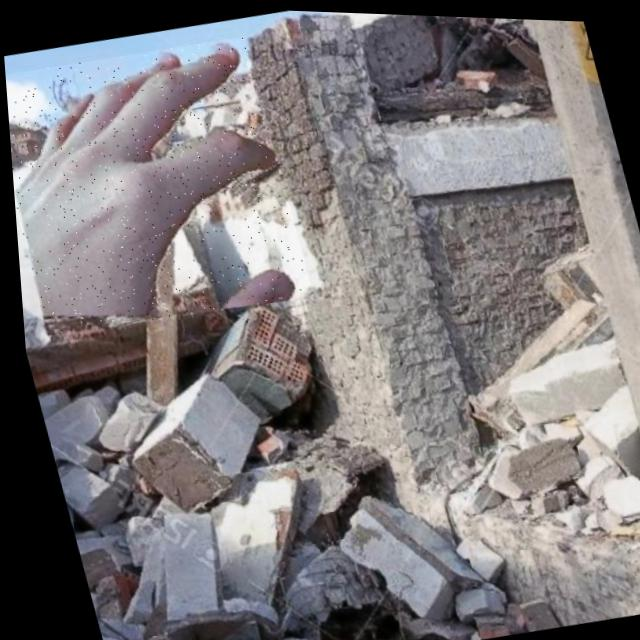Person in Rubble: (2, 27, 313, 345)
